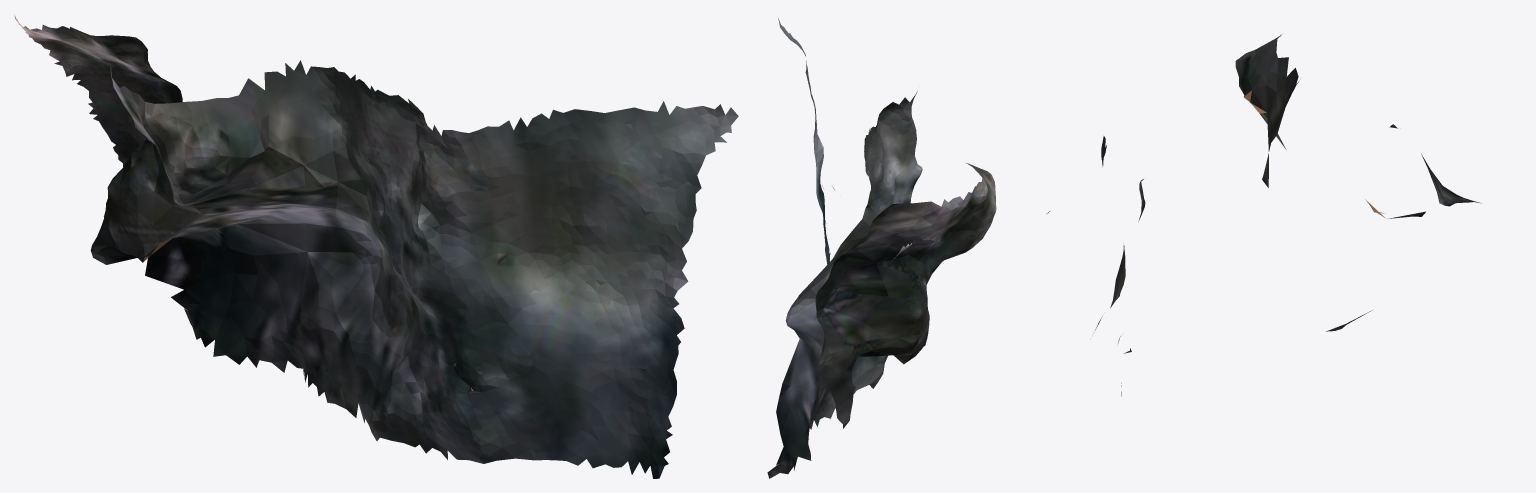
Rendered from tile_0030.gltf.
3 renders of one model, left to right at view 1: azimuth 30°, elevation 25°; view 2: azimuth 150°, elevation 25°; view 3: azimuth 270°, elevation 25°, orthographic. The views are drawn at different scales.
Parts seen in each view (by area): view 1: defaultobject; view 2: defaultobject; view 3: defaultobject.
Part boxes in pixels (x1,y1,x2,y2): defaultobject: [14, 15, 738, 478]; defaultobject: [767, 18, 996, 478]; defaultobject: [1046, 34, 1480, 396].
Bounding box in the file's own units: 0.2642 × 0.2043 × 0.2917.
Materials: 2 (2 with a texture image).
